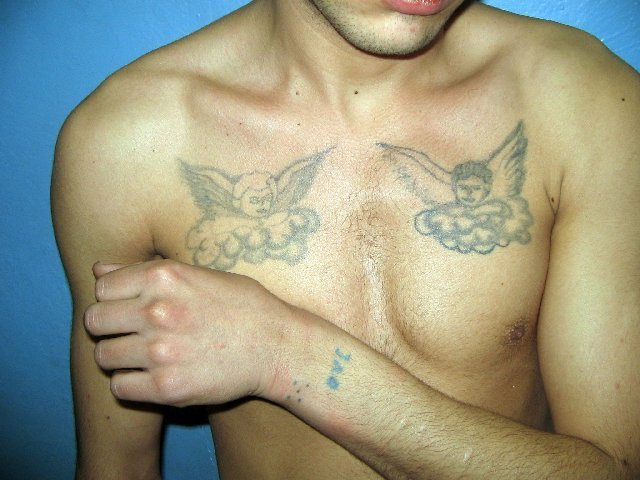tatu1_angel: (376, 120, 548, 255), (172, 144, 351, 271)
